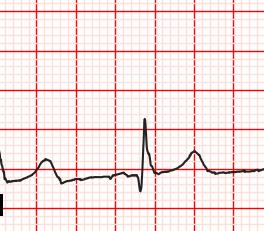Pathological Q Wave: (129, 164, 156, 196)
